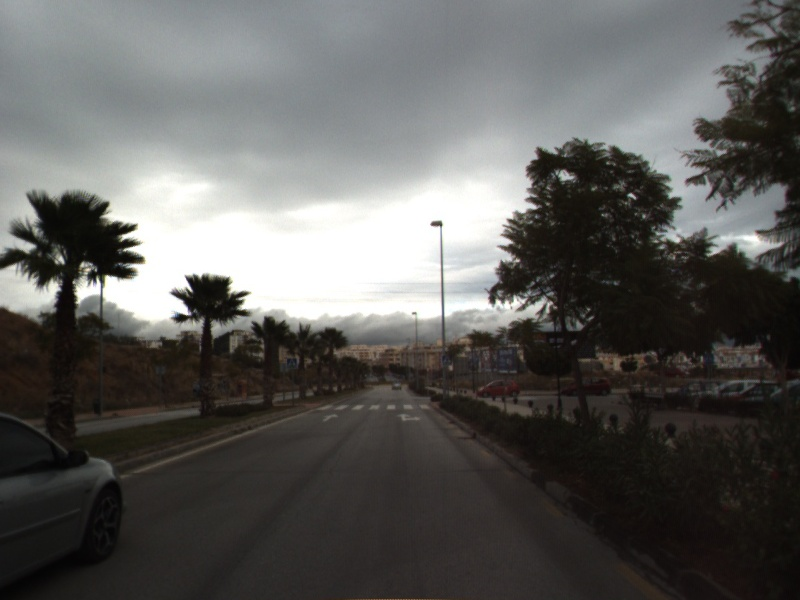STRAIGHT: (321, 412, 340, 423)
STRAIGHT_RIGHT: (394, 411, 423, 423)
